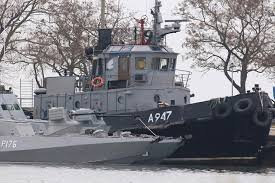tau_muctieu: (38, 37, 275, 159), (2, 89, 179, 166)
